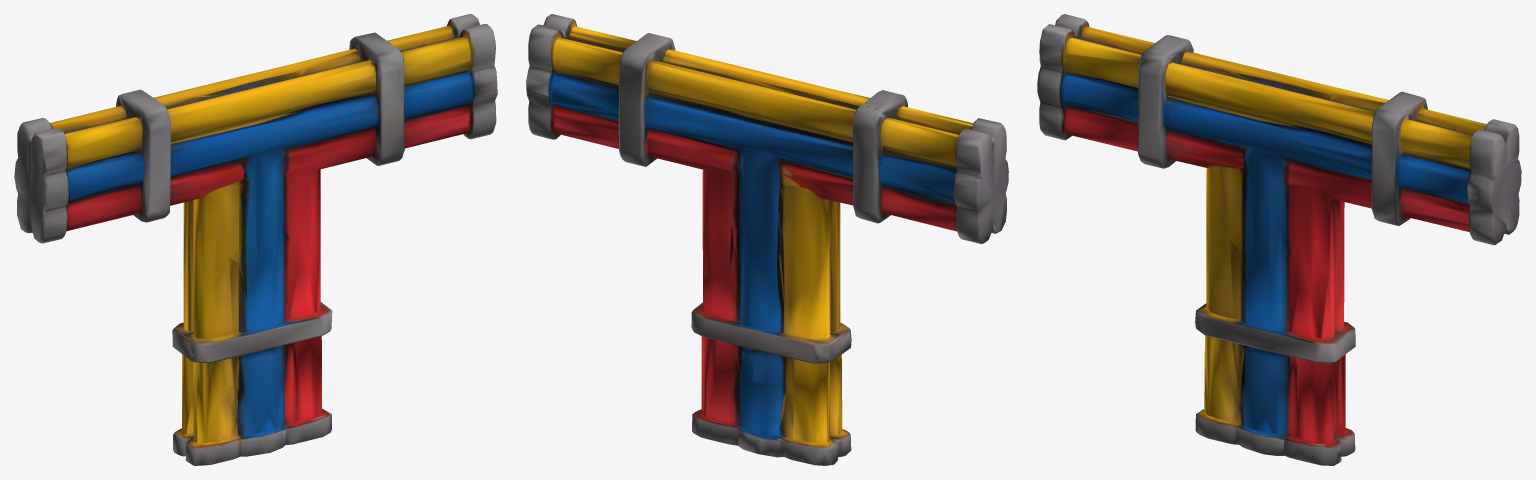
File: joint_pipes_T_idle.glb
3 renders of one model, left to right at view 1: azimuth 30°, elevation 25°; view 2: azimuth 150°, elevation 25°; view 3: azimuth 330°, elevation 25°, orthographic.
Visible parts, largest first — view 1: joint_pipes_T; view 2: joint_pipes_T; view 3: joint_pipes_T.
Part boxes in pixels (<box>): joint_pipes_T: <box>14,14,497,465</box>; joint_pipes_T: <box>526,14,1008,465</box>; joint_pipes_T: <box>1037,14,1521,465</box>.
Size of the model in its own units: 1.42 by 1.11 by 0.1829.
1 material, 1 textured.
